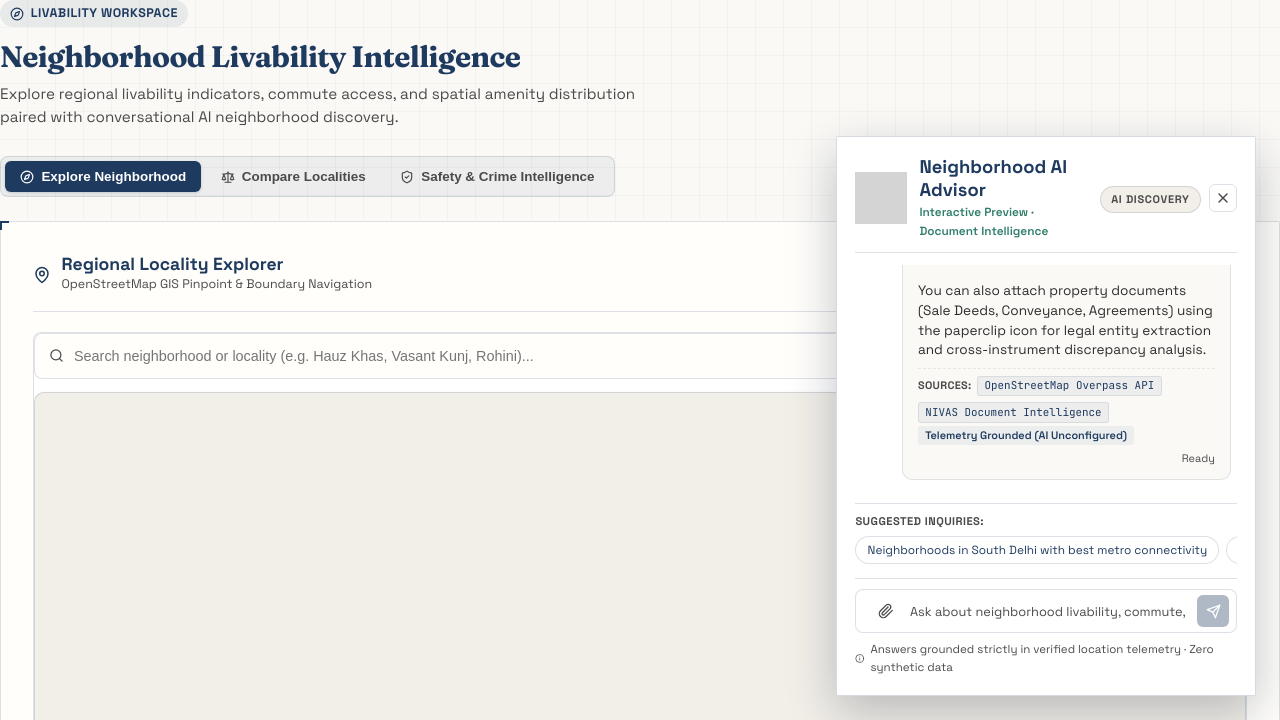
Test: NIVAS Step 5.1: Evidence-Based Locality Comparison › allows switching views in LivabilityWorkspace and preserves isolation
This screenshot has width=1280, height=720.
(page scrolled)
Expected: the heading "Neighborhood AI Advisor" is shown, [919,155,1088,201]
Expected: the heading "Regional Locality Explorer" is shown, [61,253,284,275]
# Switch to Compare Localities
Click the tab "Compare Localities" at (293,177), box [205,161,381,192]
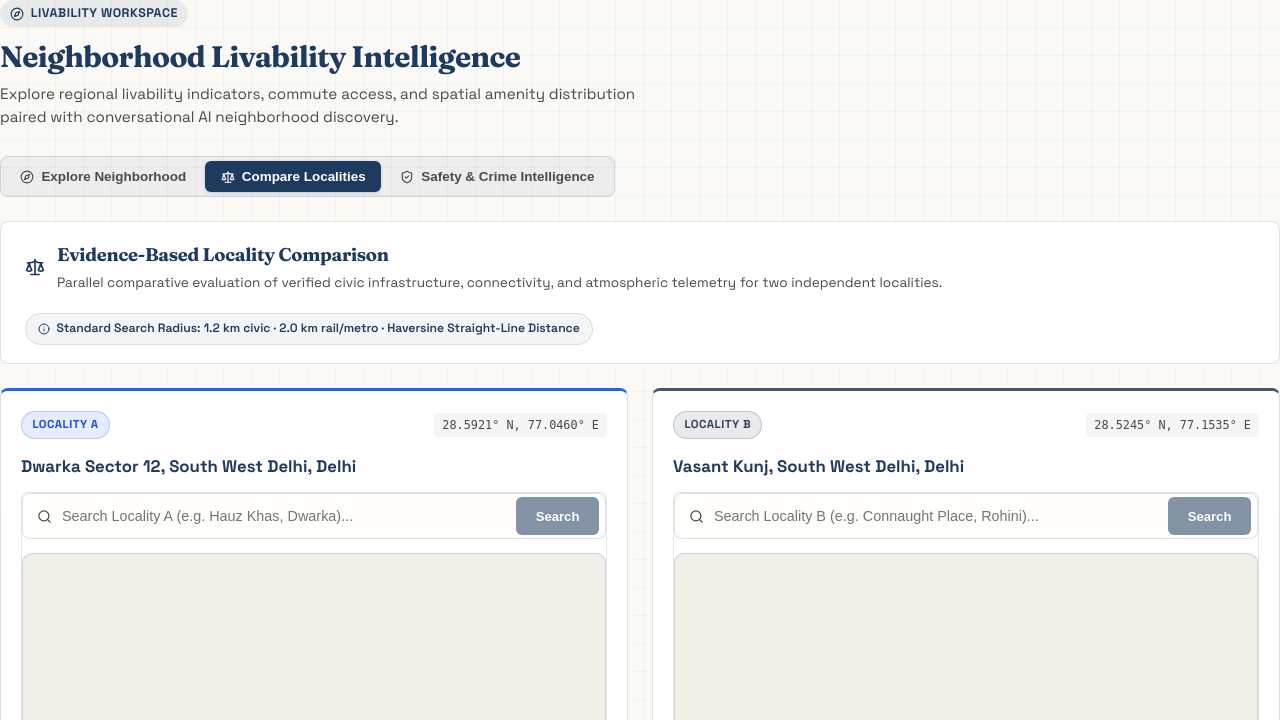
# Switch back to Explore Neighborhood
Click the tab "Explore Neighborhood" at (103,177), box [5,161,201,192]
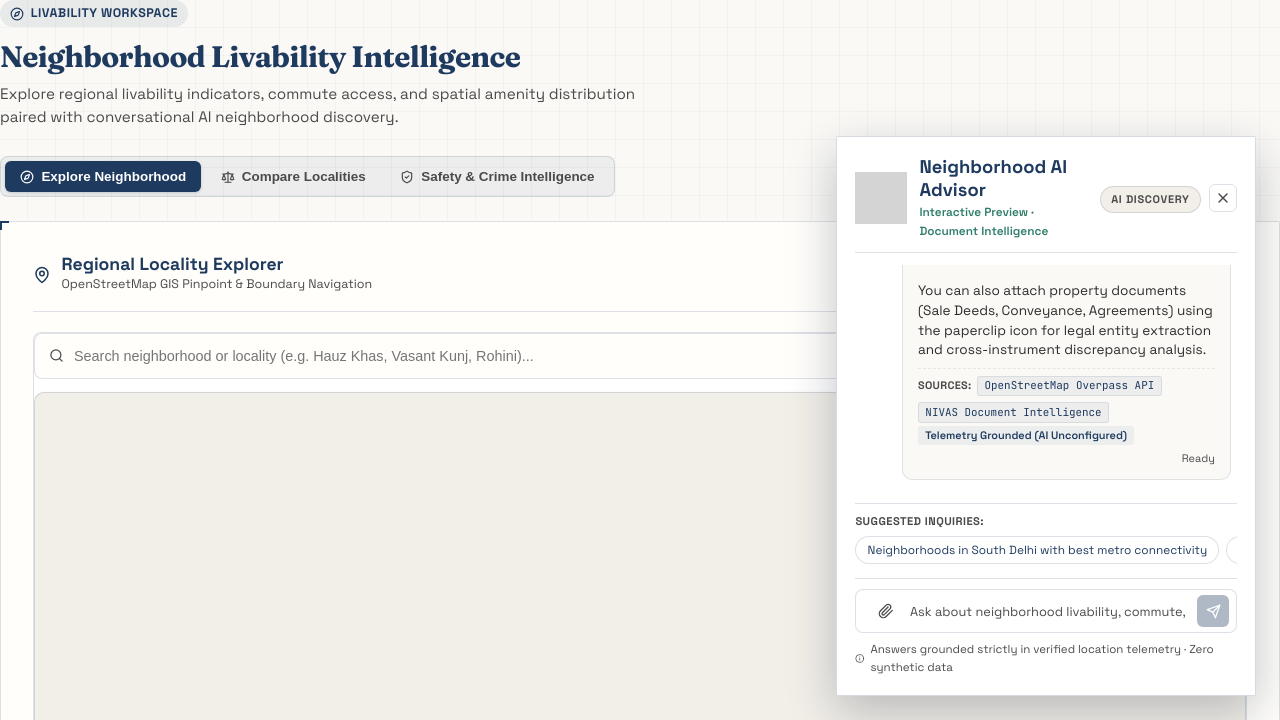
Expected: the heading "Neighborhood AI Advisor" is shown, [919,155,1088,201]
Expected: the heading "Regional Locality Explorer" is shown, [61,253,284,275]
